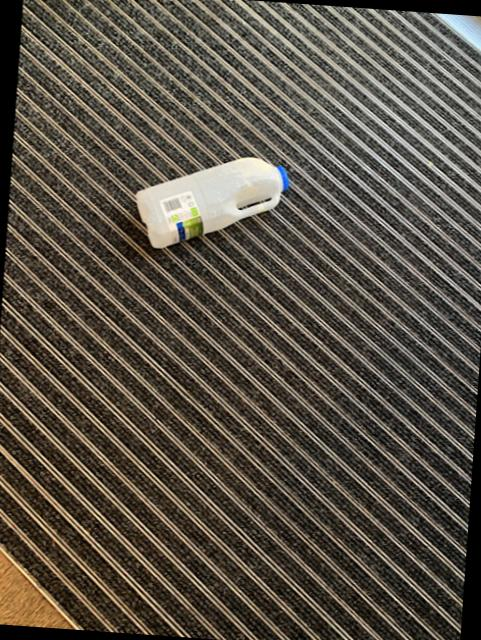plastic: (137, 156, 289, 246)
